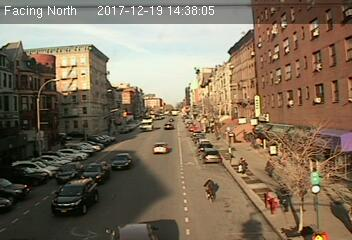bicycle: (203, 178, 217, 205)
car: (50, 179, 99, 215), (53, 162, 83, 184), (82, 162, 110, 184), (111, 153, 132, 169), (202, 148, 222, 163), (151, 141, 169, 155)
